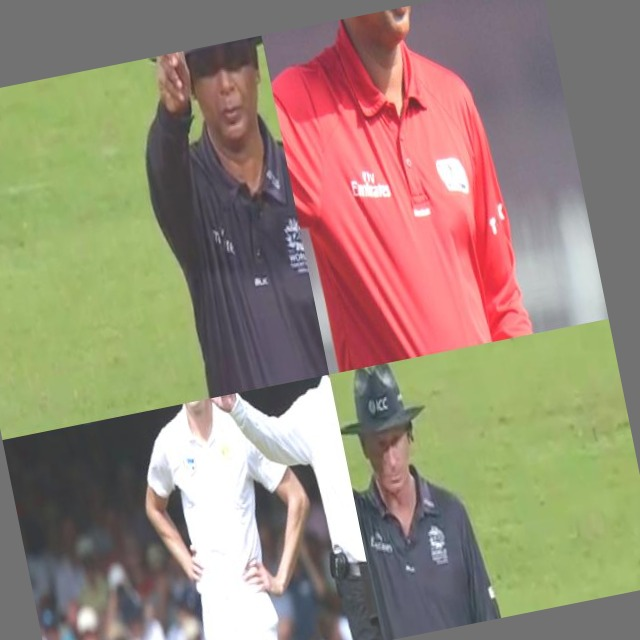No_Ball: (261, 0, 561, 375), (180, 375, 383, 640)
Out: (111, 35, 329, 405), (329, 347, 519, 640)
